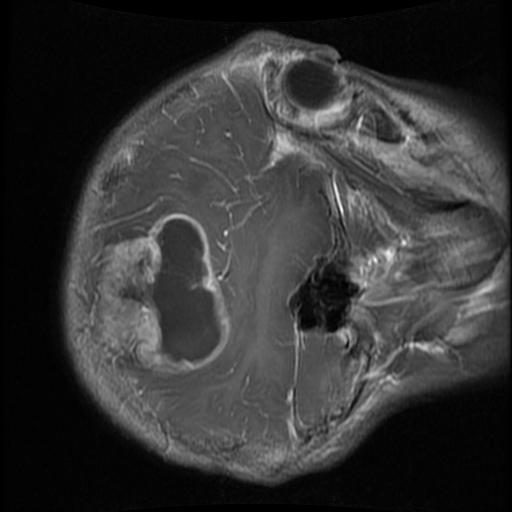glioma: (94, 211, 232, 376)
